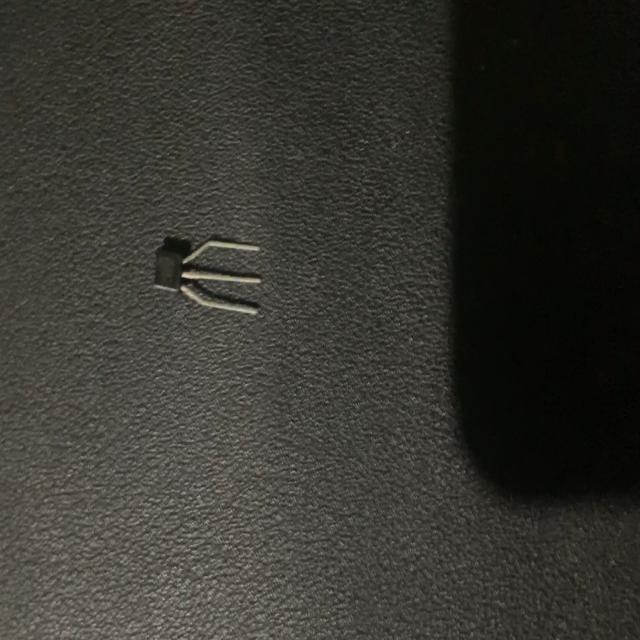BJT: (150, 237, 264, 321)
